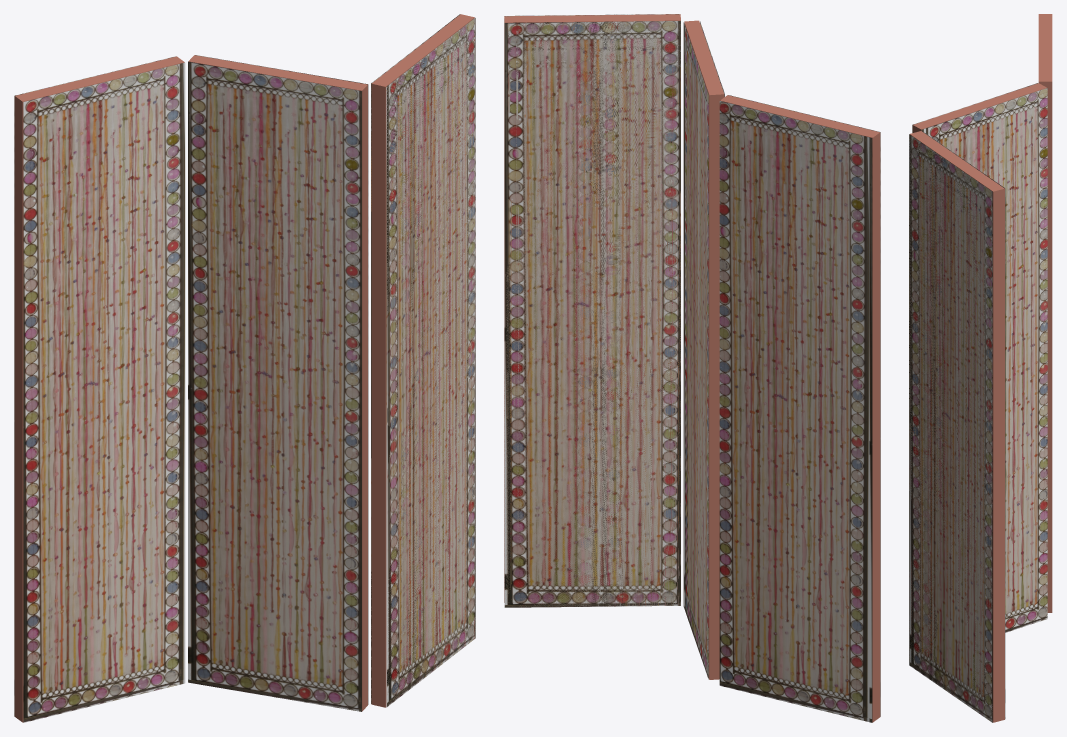
The picture shows the model from 3 angles, left to right: view 1: azimuth 30°, elevation 25°; view 2: azimuth 150°, elevation 25°; view 3: azimuth 270°, elevation 25°; orthographic projection. The views are drawn at different scales.
Parts seen in each view (by area): view 1: KARE_72186_Room_Divider_Goa___Paravent_Goa__ (×6), group_2, group_0, group_1; view 2: KARE_72186_Room_Divider_Goa___Paravent_Goa__ (×4), group_1, group_0, group_2; view 3: KARE_72186_Room_Divider_Goa___Paravent_Goa__ (×3), group_2, group_0, group_1.
Part boxes in pixels (x1,y1,x2,y2): KARE_72186_Room_Divider_Goa___Paravent_Goa__ (×6): (14, 14, 475, 722); group_2: (371, 14, 474, 707); group_0: (14, 56, 184, 722); group_1: (188, 55, 367, 711); KARE_72186_Room_Divider_Goa___Paravent_Goa__ (×4): (504, 21, 880, 722); group_1: (684, 20, 724, 679); group_0: (720, 95, 880, 722); group_2: (504, 14, 680, 602); KARE_72186_Room_Divider_Goa___Paravent_Goa__ (×3): (909, 88, 1047, 722); group_2: (909, 131, 1004, 722); group_0: (1038, 14, 1052, 612); group_1: (912, 83, 1046, 132).
Bounding box in the file's own units: 48.61 × 16.63 × 67.72.
2 materials, 1 textured.
